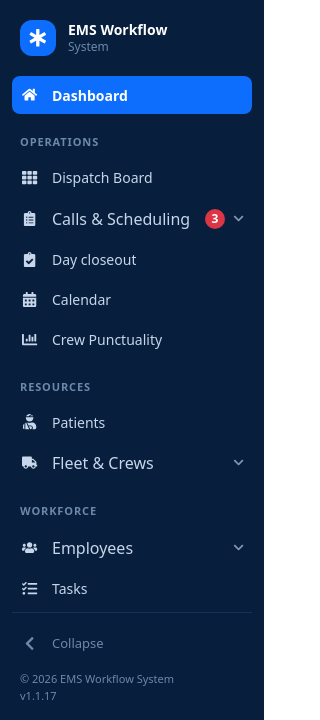
Test: Sidebar badges › shows a count only where there is work waiting
What coordinates should you click on to do the following:
click the button "Calls & Scheduling 3"
I would click on:
 (132, 218)
Its box is [12,198,252,238].
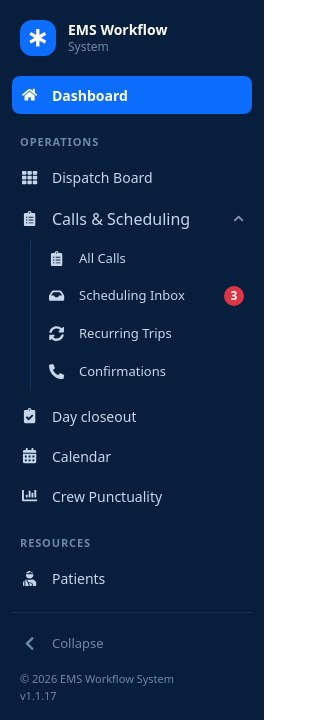
Check: the link with aria-label "Scheduling Inbox, 3 waiting" is shown, box [49,286,244,306]
Check: the link "Confirmations" is shown, box [49,362,166,380]
